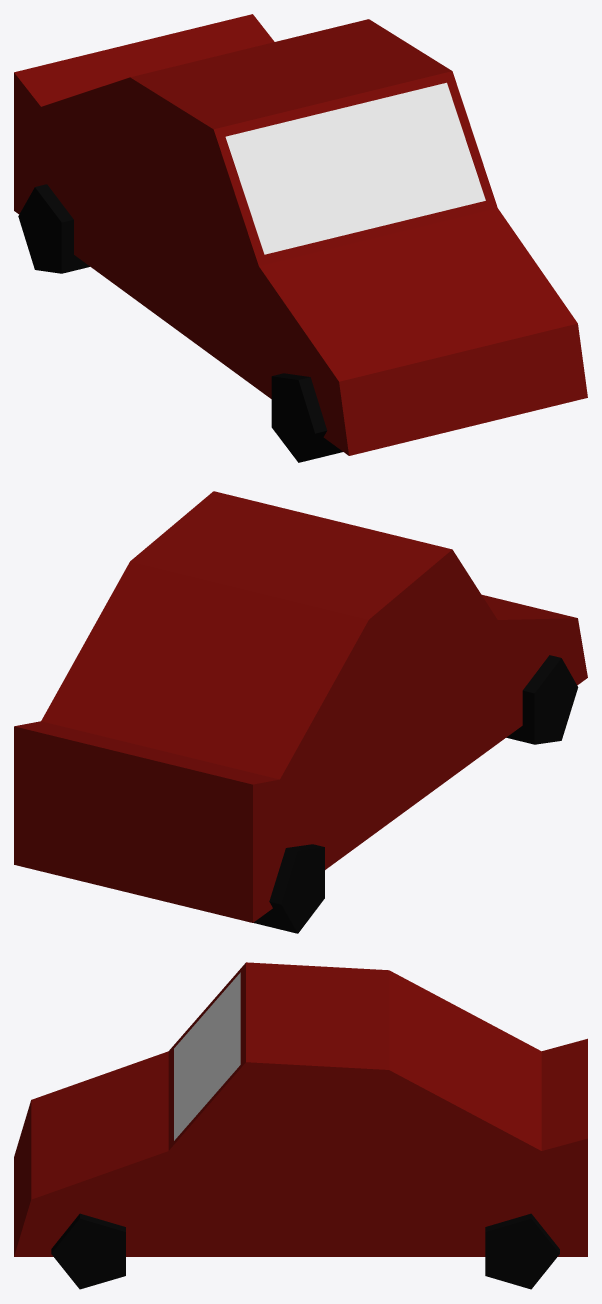
The model's file is car.glb.
3 renders of one model, top to bottom at view 1: azimuth 30°, elevation 25°; view 2: azimuth 150°, elevation 25°; view 3: azimuth 270°, elevation 25°, orthographic. The views are drawn at different scales.
Parts seen in each view (by area): view 1: Cube, Cylinder; view 2: Cube, Cylinder; view 3: Cube, Cylinder.
Boxes of the visible parts, x1,y1,x2,y2 form: Cube: (14, 14, 587, 455); Cylinder: (18, 184, 342, 462); Cube: (14, 491, 587, 922); Cylinder: (253, 655, 578, 933); Cube: (14, 962, 587, 1256); Cylinder: (51, 1213, 559, 1289).
Size of the model in its own units: 1.74 by 1.64 by 3.84.
